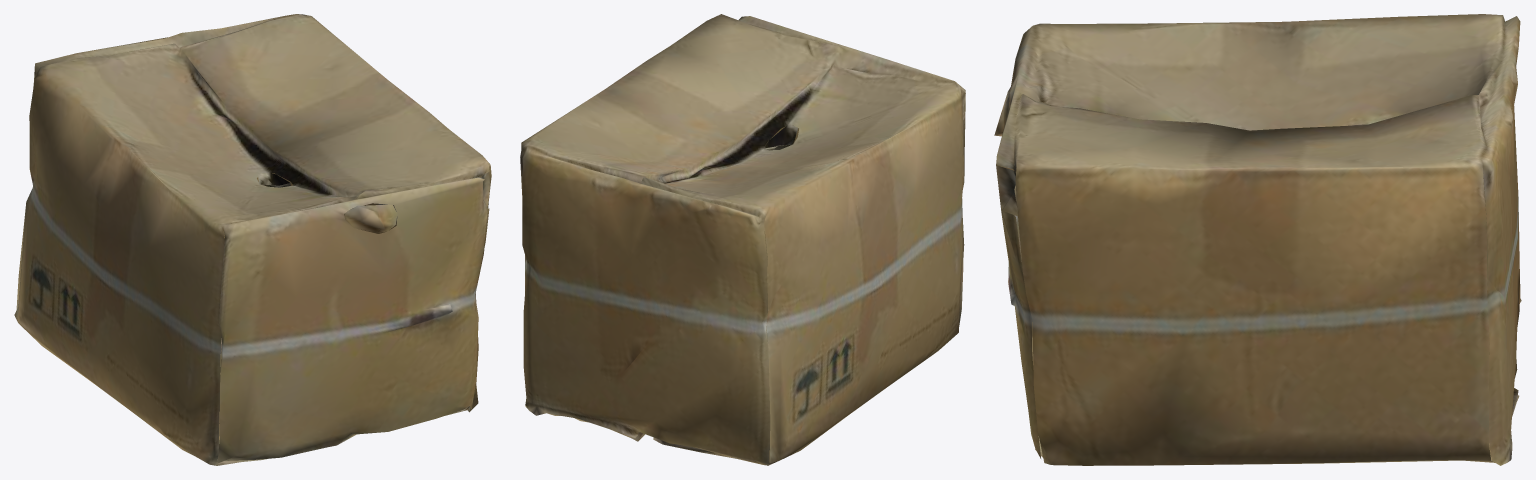
File: isl_cardboard.glb
The picture shows the model from 3 angles, left to right: view 1: azimuth 30°, elevation 25°; view 2: azimuth 150°, elevation 25°; view 3: azimuth 270°, elevation 25°; orthographic projection. The views are drawn at different scales.
Parts seen in each view (by area): view 1: cardboard_box_01; view 2: cardboard_box_01; view 3: cardboard_box_01.
Part boxes in pixels (x1,y1,x2,y2): cardboard_box_01: (14,14,491,465); cardboard_box_01: (520,14,965,465); cardboard_box_01: (994,14,1521,465).
Bounding box in the file's own units: 0.3873 × 0.3408 × 0.5156.
1 material, 1 textured.
